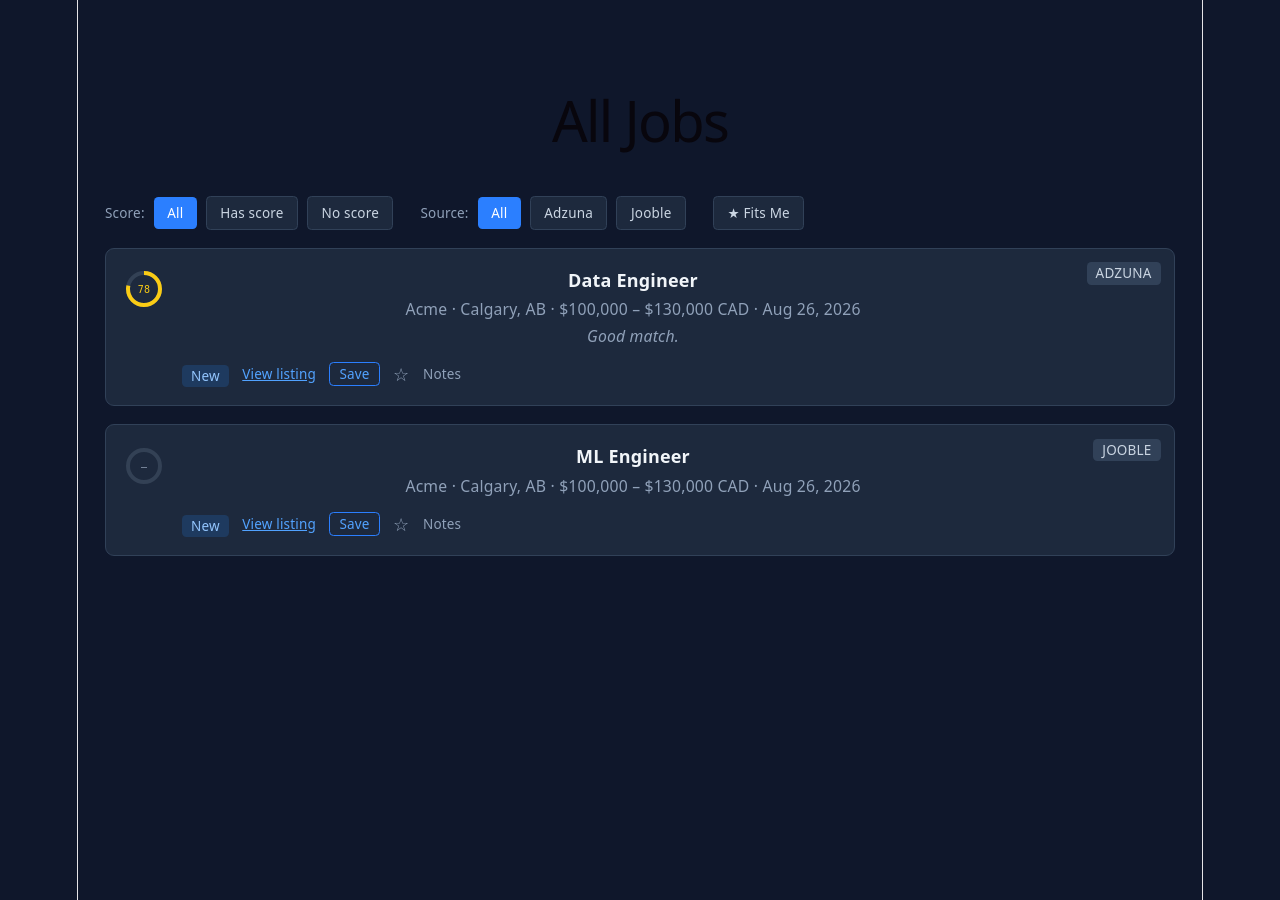
Scenario: AllJobs › source filter narrows the list client-side
Expected: the text "Data Engineer" is shown, [568,268,698,292]
Click the button "Jooble": (651, 213) [616,196,686,230]
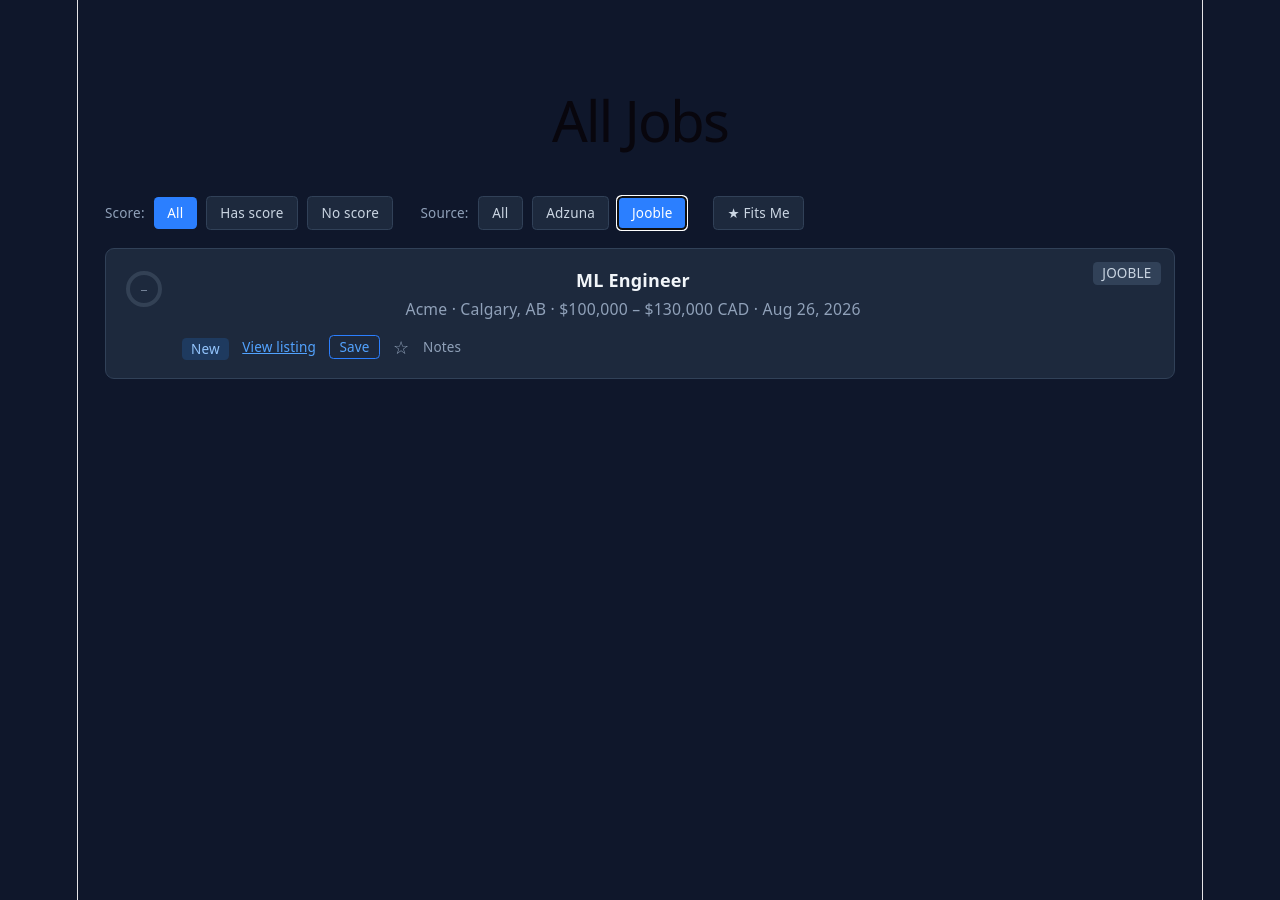
Expected: the text "ML Engineer" is shown, [576,268,690,292]
Now the text "Data Engineer" is gone
